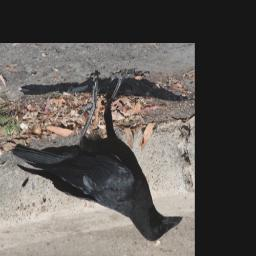Crow: (12, 71, 184, 245)
